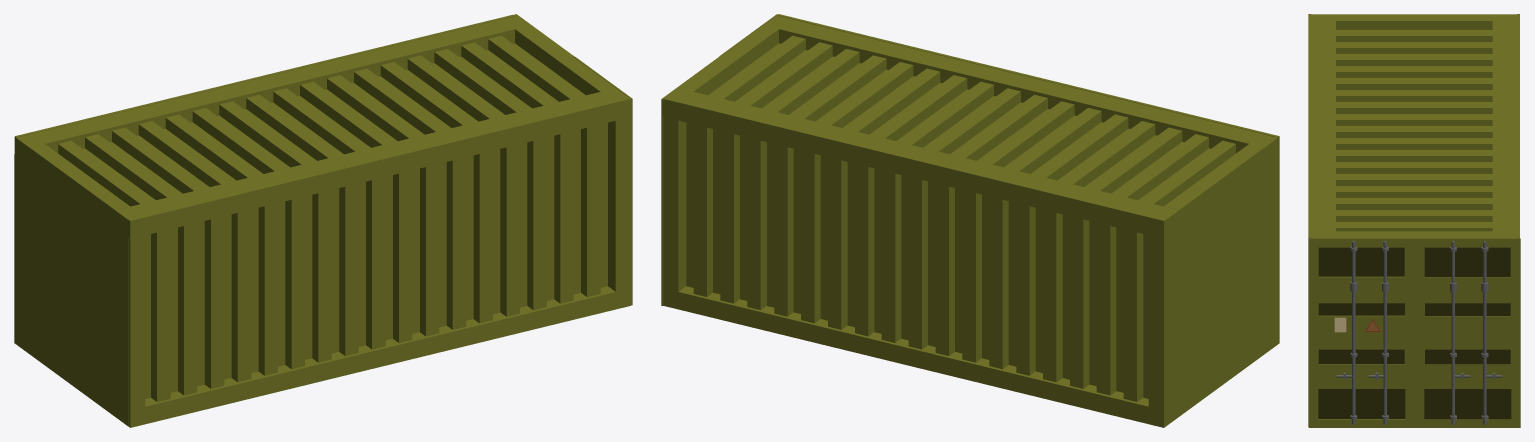
The model's file is Building_CargoContainer_GreenYel.fbx.
3 views of the same model, side by side, from view 1: azimuth 30°, elevation 25°; view 2: azimuth 150°, elevation 25°; view 3: azimuth 270°, elevation 25° (orthographic). The views are drawn at different scales.
Parts seen in each view (by area): view 1: Cube; view 2: Cube, Cylinder.003; view 3: Cube, Cylinder.002, Cylinder.003.
Boxes of the visible parts, left/top/right/bottom form: Cube: left=14, top=14, right=630, bottom=427; Cube: left=663, top=14, right=1279, bottom=427; Cylinder.003: left=661, top=56, right=719, bottom=305; Cube: left=1308, top=14, right=1519, bottom=426; Cylinder.002: left=1308, top=238, right=1414, bottom=427; Cylinder.003: left=1414, top=238, right=1520, bottom=427.
Size of the model in its own units: 521 by 204 by 207.
